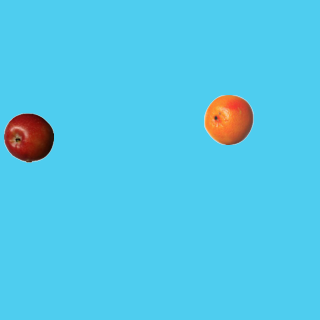Apple Braeburn: (3, 112, 53, 162)
Grapefruit Pink: (203, 94, 253, 144)
